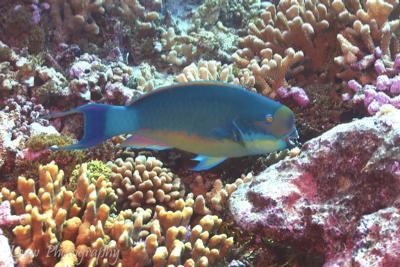Scaridae -Parrotfishes-: (36, 79, 305, 174)
